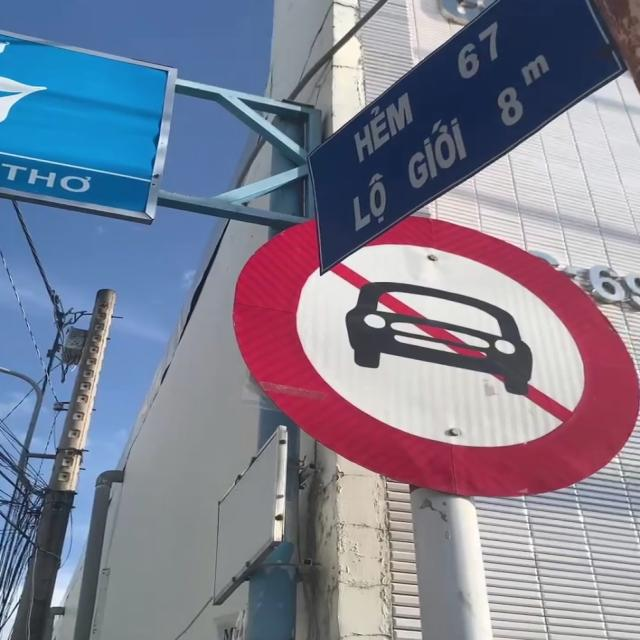Cam_O_To: (233, 210, 633, 496)
